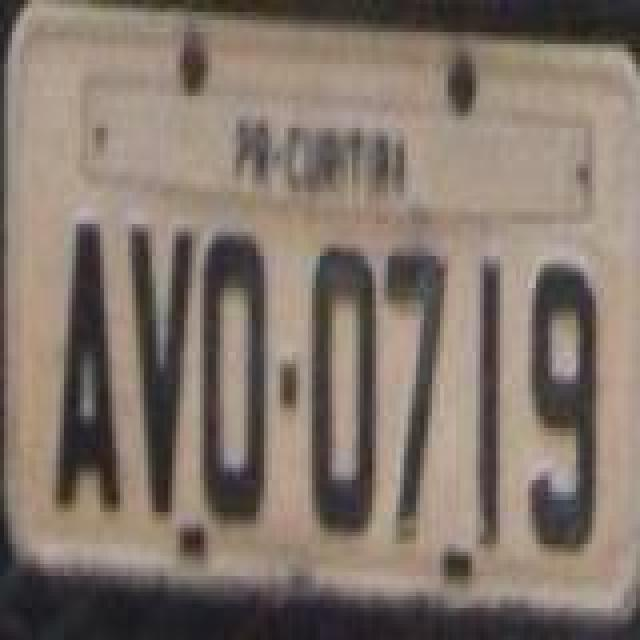1: (474, 254, 502, 554)
7: (384, 248, 448, 544)
9: (524, 260, 596, 556)
A: (54, 218, 122, 510)
O: (198, 228, 266, 524), (310, 244, 378, 540)
V: (128, 224, 192, 520)
